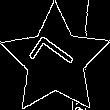L_SE: (27, 33, 83, 88)
